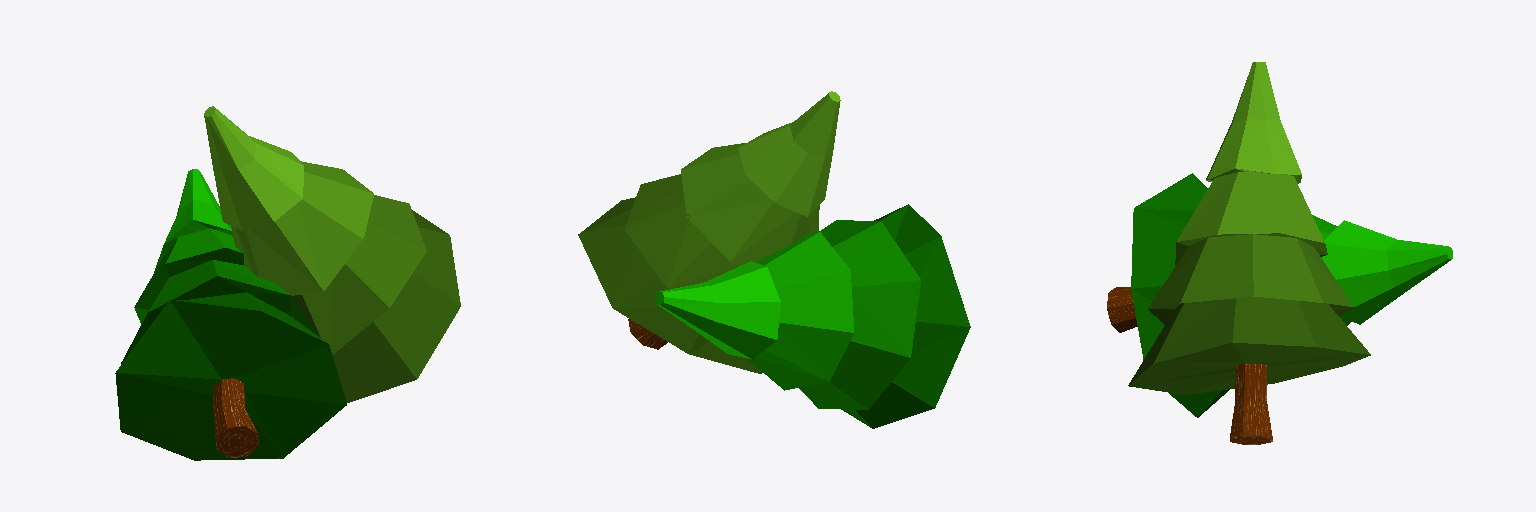
The picture shows the model from 3 angles: view 1: azimuth 30°, elevation 25°; view 2: azimuth 150°, elevation 25°; view 3: azimuth 270°, elevation 25°; orthographic projection.
Visible parts, largest first — view 1: barricada.001; view 2: barricada.001; view 3: barricada.001.
Boxes of the visible parts, box(x1,y1,x2,y2) form: barricada.001: box(115, 106, 460, 460); barricada.001: box(578, 91, 970, 428); barricada.001: box(1107, 62, 1452, 444).
Size of the model in its own units: 17.93 by 16.87 by 15.68.
2 materials, 2 textured.